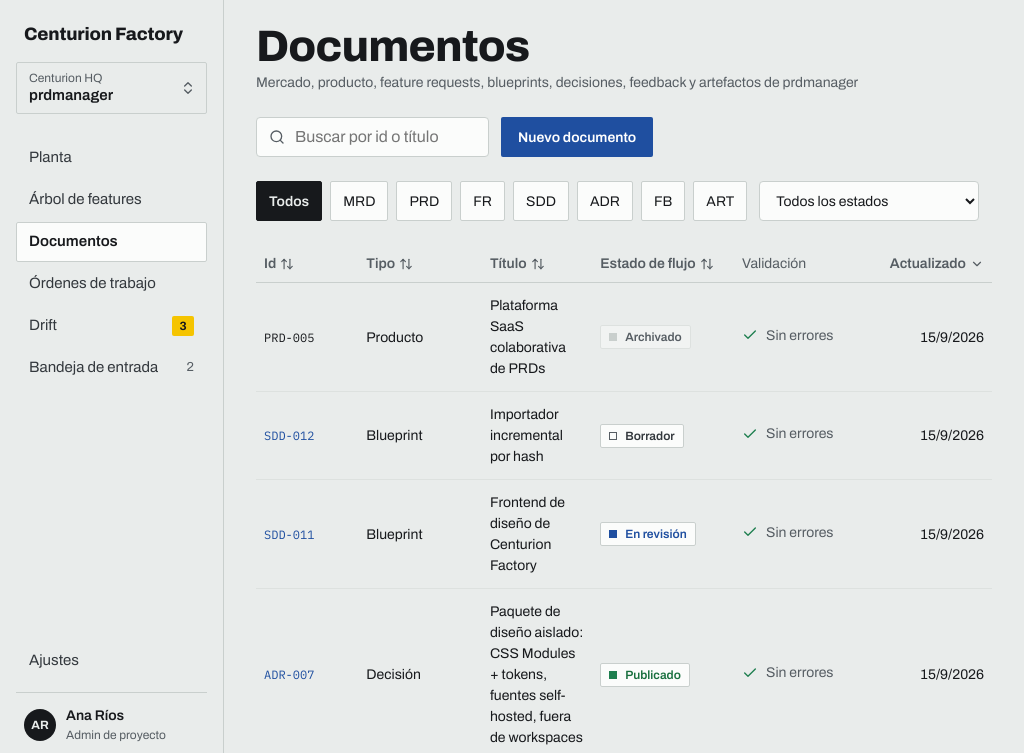
Test: DocumentosPage "Nuevo documento" modal › validates the title and creates a draft document on success
The image size is (1024, 753).
Click the button "Nuevo documento" at (577, 137), box [501, 117, 653, 157]
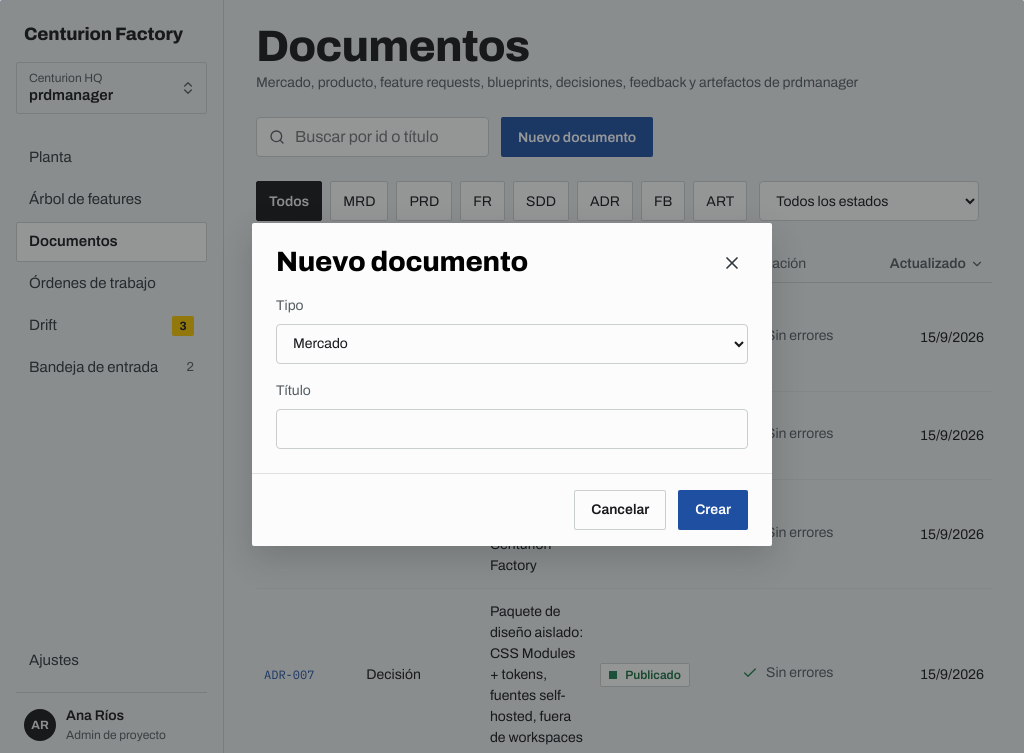
Type "Corto" into the field labelled "Título" at (512, 428), box [276, 408, 748, 448]
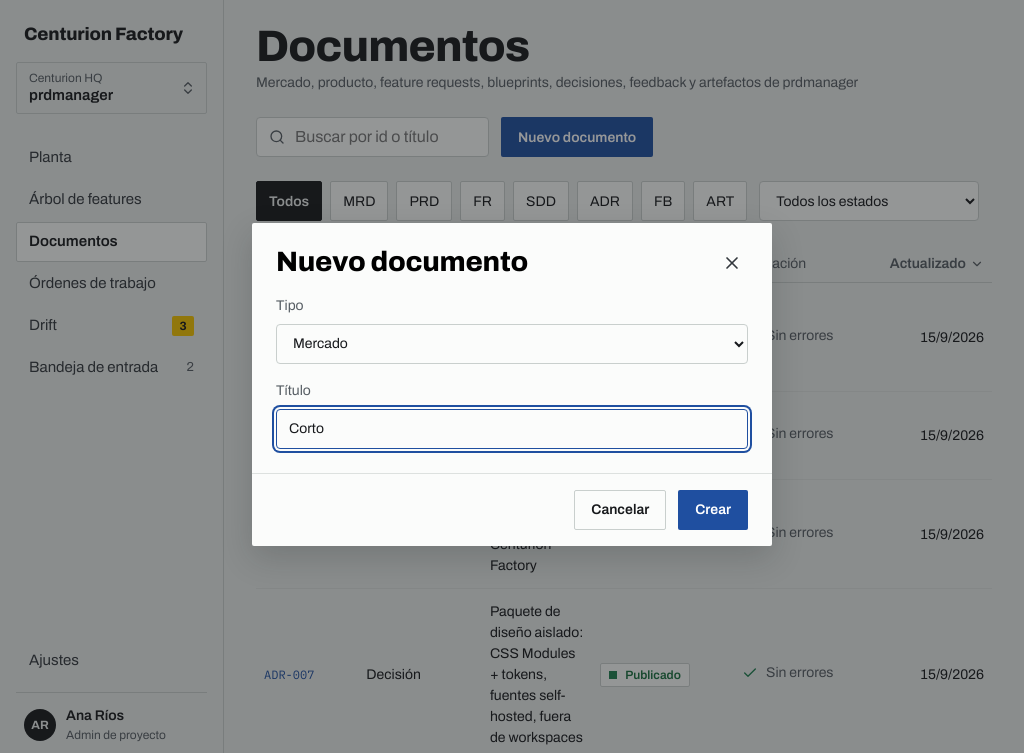
Click the button "Crear" at (713, 510), box [678, 490, 748, 530]
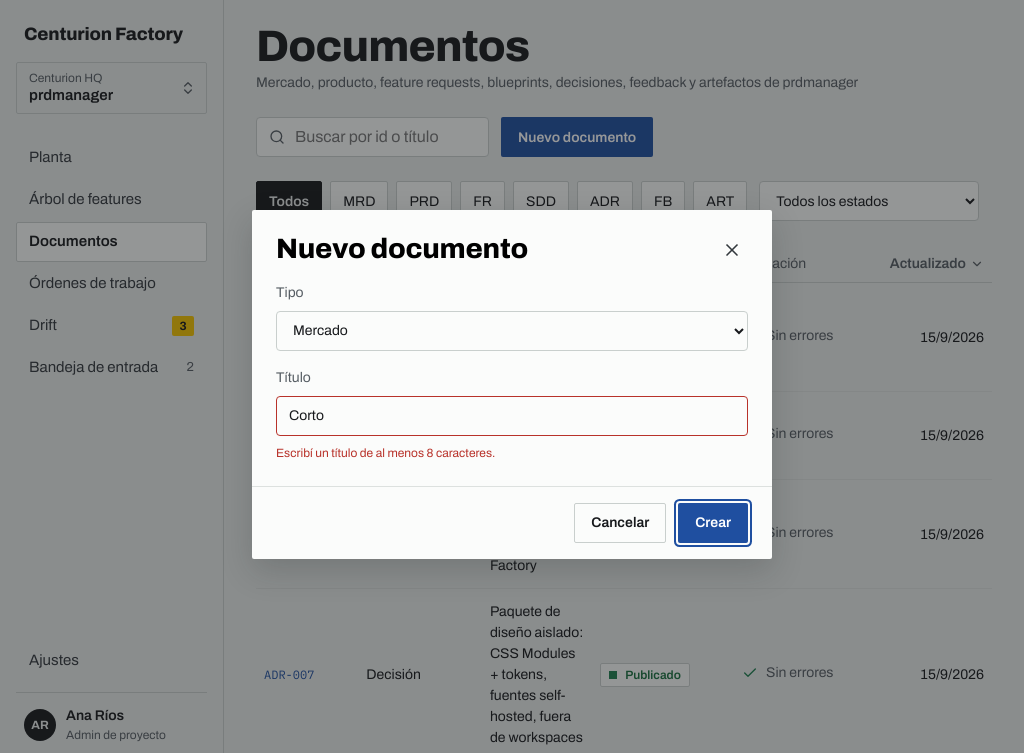
Result: the text "Escribí un título de al menos 8 caracteres." is shown at [276, 446, 495, 460]
Type ", ahora un poco más largo" into the field labelled "Título" at (512, 416), box [276, 396, 748, 436]
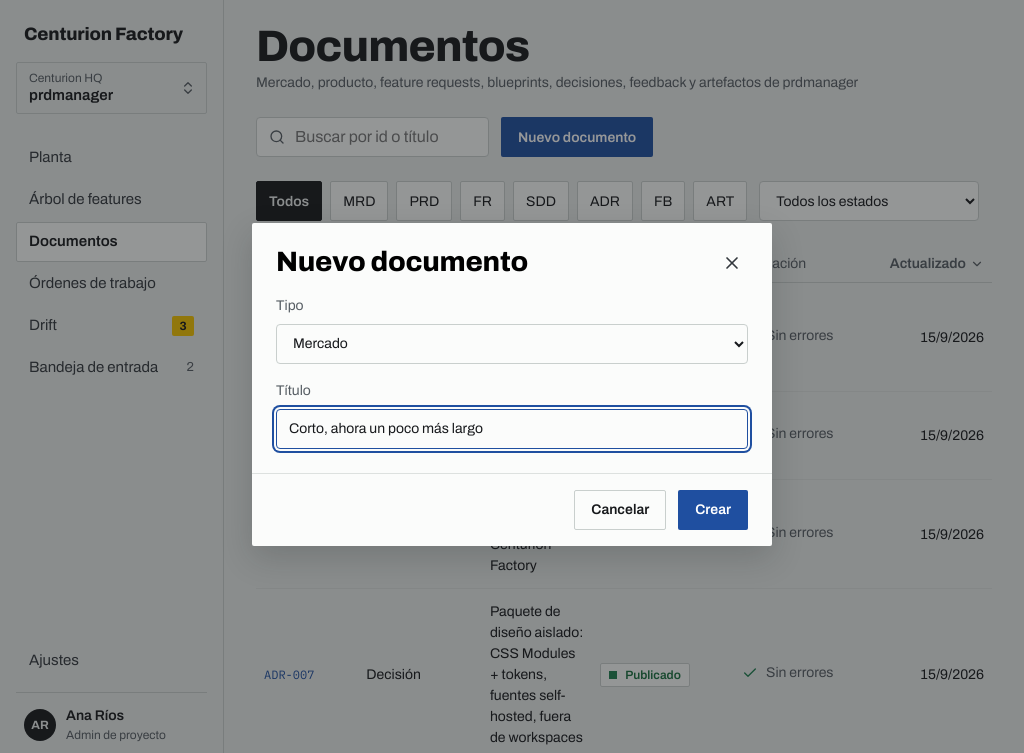
Click the button "Crear" at (713, 510), box [678, 490, 748, 530]
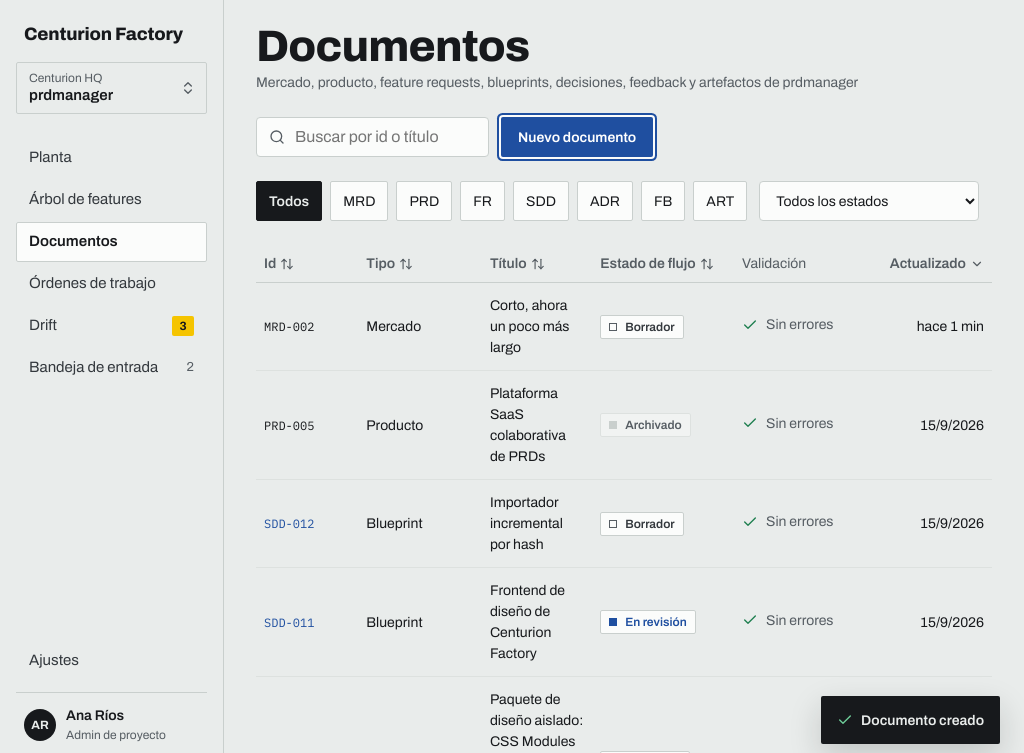
Result: the message reads "Documento creado" at [861, 712, 984, 728]
Result: the text "Corto, ahora un poco más largo" is shown at [482, 283, 592, 370]
